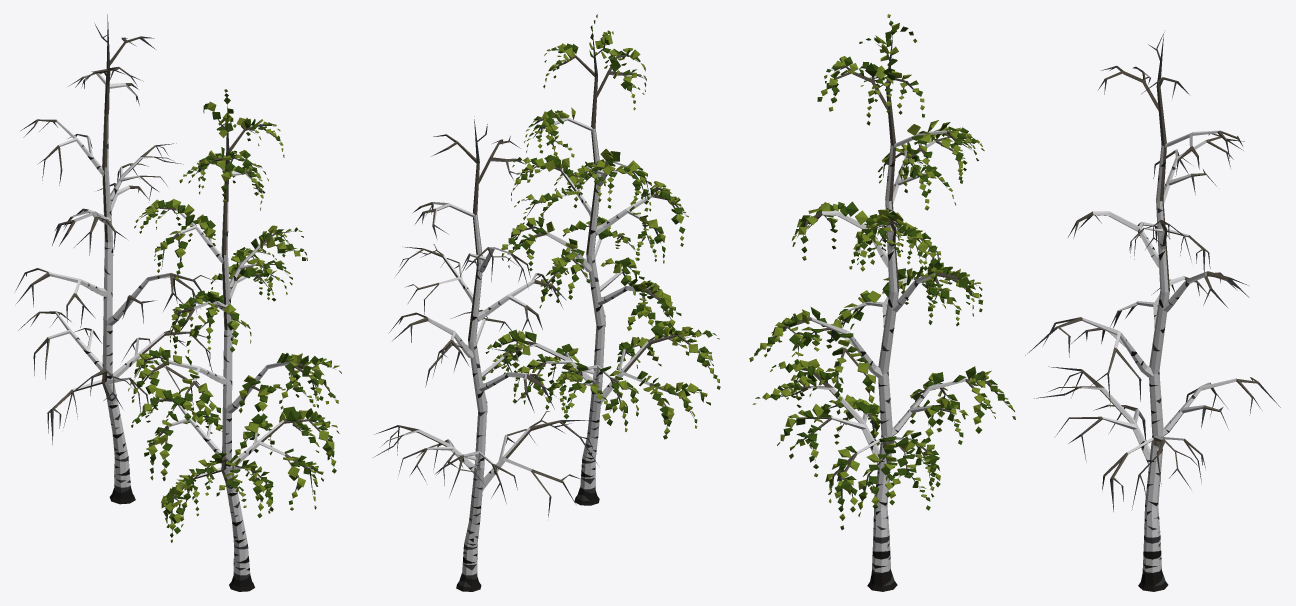
File: tree.obj
The picture shows the model from 3 angles, left to right: view 1: azimuth 30°, elevation 25°; view 2: azimuth 150°, elevation 25°; view 3: azimuth 270°, elevation 25°; orthographic projection. The views are drawn at different scales.
Visible parts, largest first — view 1: Cylinder.001_Cylinder.002; view 2: Cylinder.001_Cylinder.002; view 3: Cylinder.001_Cylinder.002.
Part boxes in pixels (x1,y1,x2,y2): Cylinder.001_Cylinder.002: (15, 14, 341, 591); Cylinder.001_Cylinder.002: (373, 14, 720, 591); Cylinder.001_Cylinder.002: (749, 14, 1280, 591).
Size of the model in its own units: 12.2 by 29.08 by 24.86.
